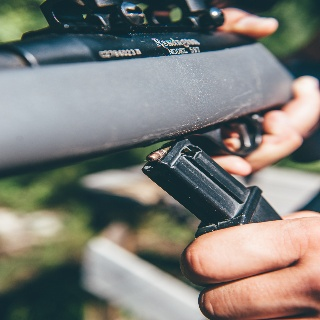rifle: (1, 1, 295, 238)
